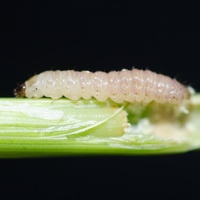insect: (25, 69, 189, 102)
